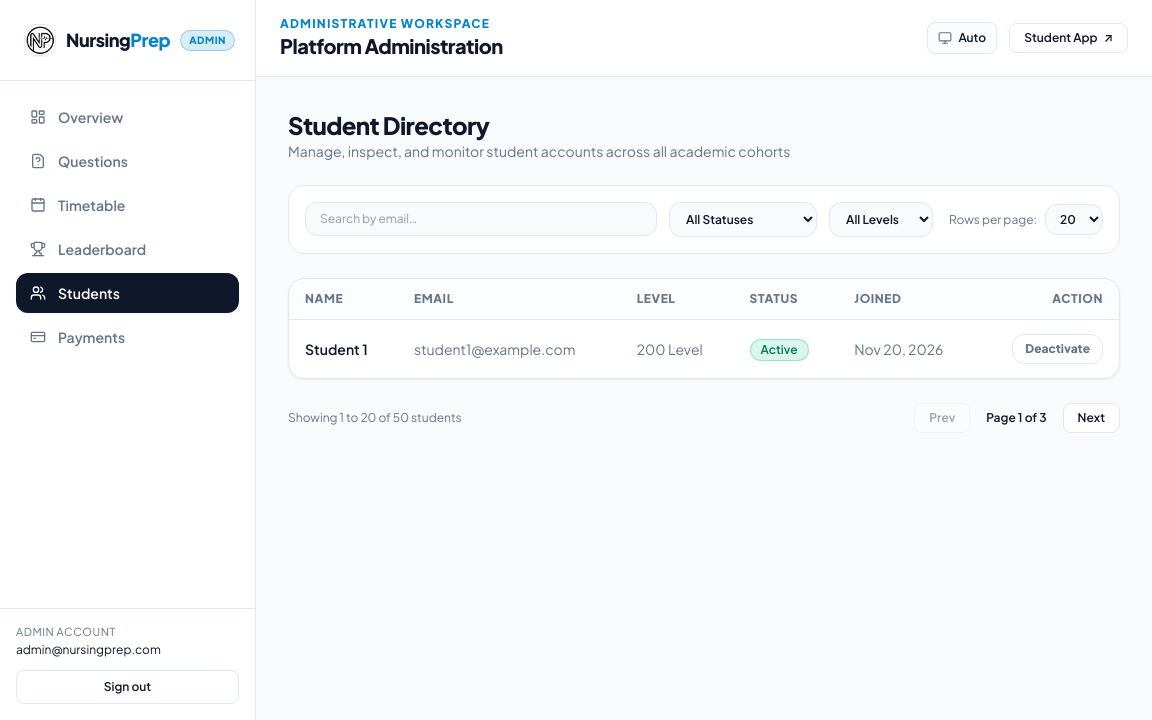
Test: AdminStudentsPage Tests › pagination resets on filter change
Check: the text "Page 1 of 3" is shown, box [986,410,1047,425]
// Click Next to go to Page 2
Click the button with aria-label "Next page" at (1091, 418), box [1063,403,1120,433]
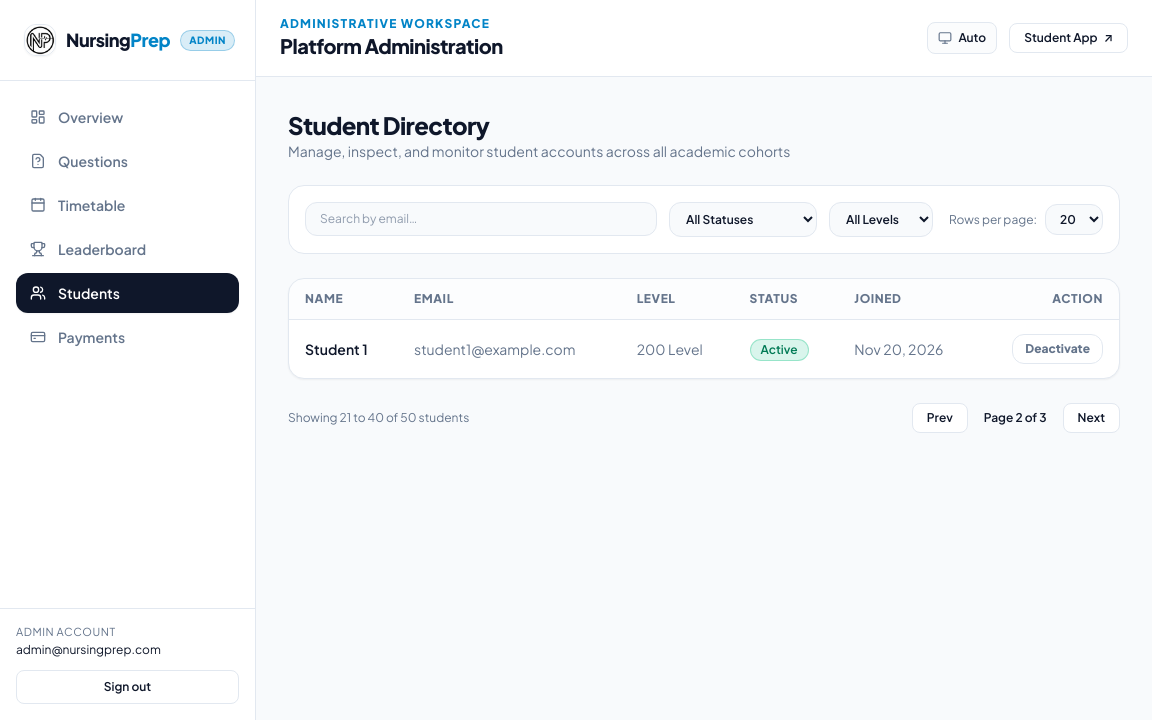
Check: the text "Page 2 of 3" is shown, box [984,410,1047,425]
// Change status filter
Select "Active" in the dropdown named "Filter by status" at (743, 220), box [669,202,817,237]
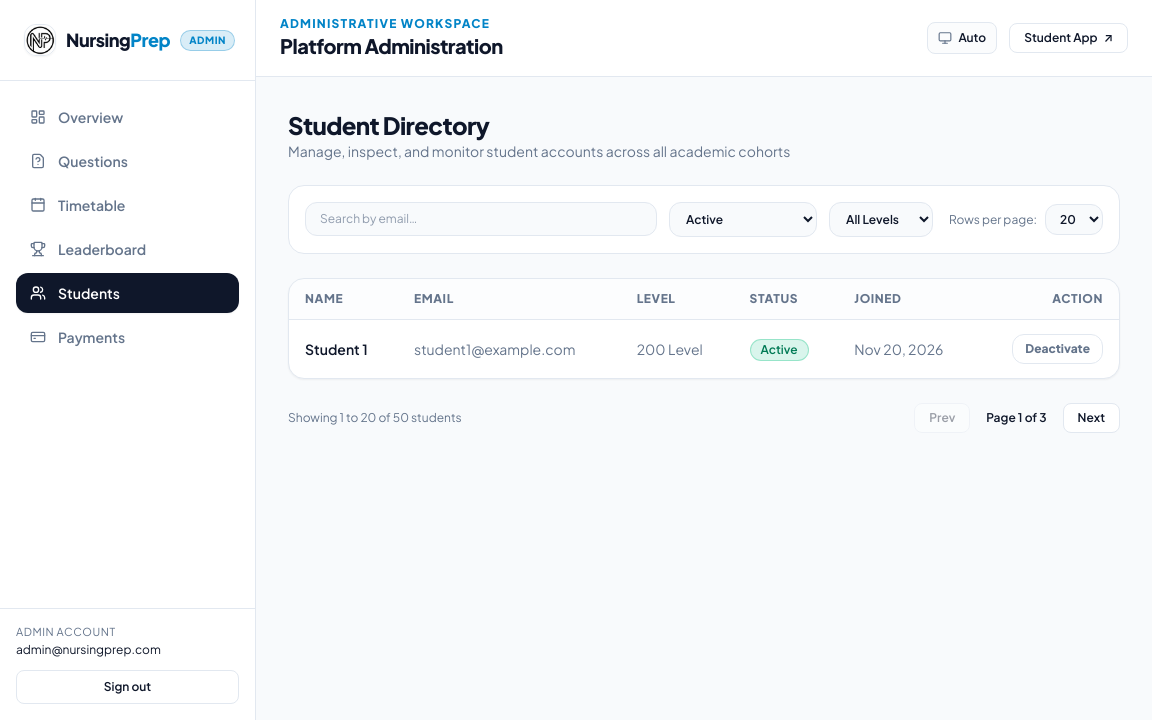
Check: the text "Page 1 of 3" is shown, box [986,410,1047,425]
